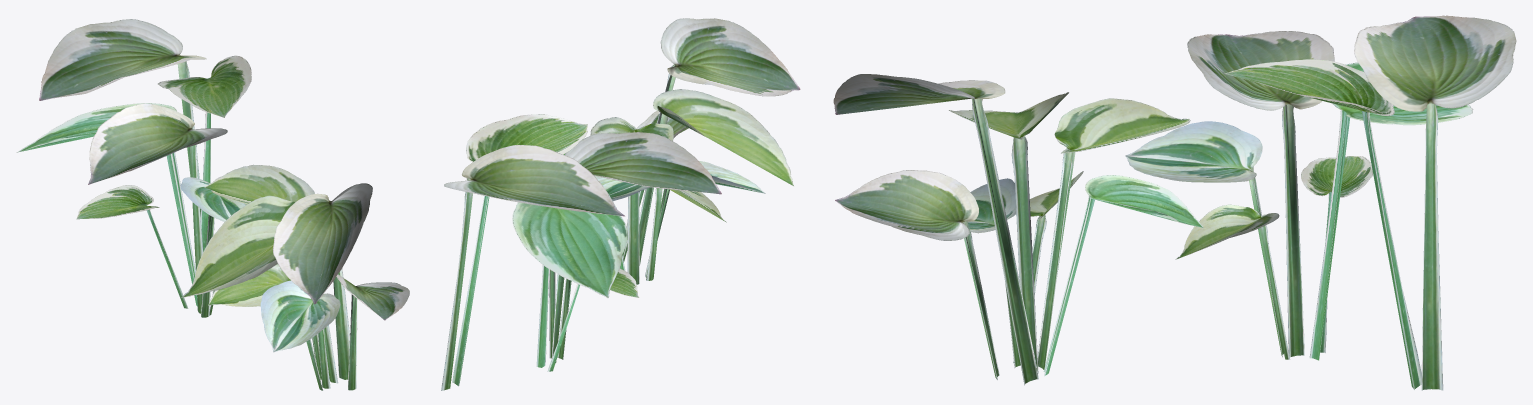
The model's file is plant_small_wg_00_line_10.fbx.
3 renders of one model, left to right at view 1: azimuth 30°, elevation 25°; view 2: azimuth 150°, elevation 25°; view 3: azimuth 270°, elevation 25°, orthographic. The views are drawn at different scales.
Parts seen in each view (by area): view 1: plant_small_wg_00_line_10; view 2: plant_small_wg_00_line_10; view 3: plant_small_wg_00_line_10.
Boxes of the visible parts, left/top/right/bottom form: plant_small_wg_00_line_10: left=16, top=19, right=409, bottom=390; plant_small_wg_00_line_10: left=441, top=18, right=800, bottom=390; plant_small_wg_00_line_10: left=833, top=15, right=1516, bottom=390.
Bounding box in the file's own units: 42.08 × 45.63 × 94.16.
Materials: 1 (1 with a texture image).
